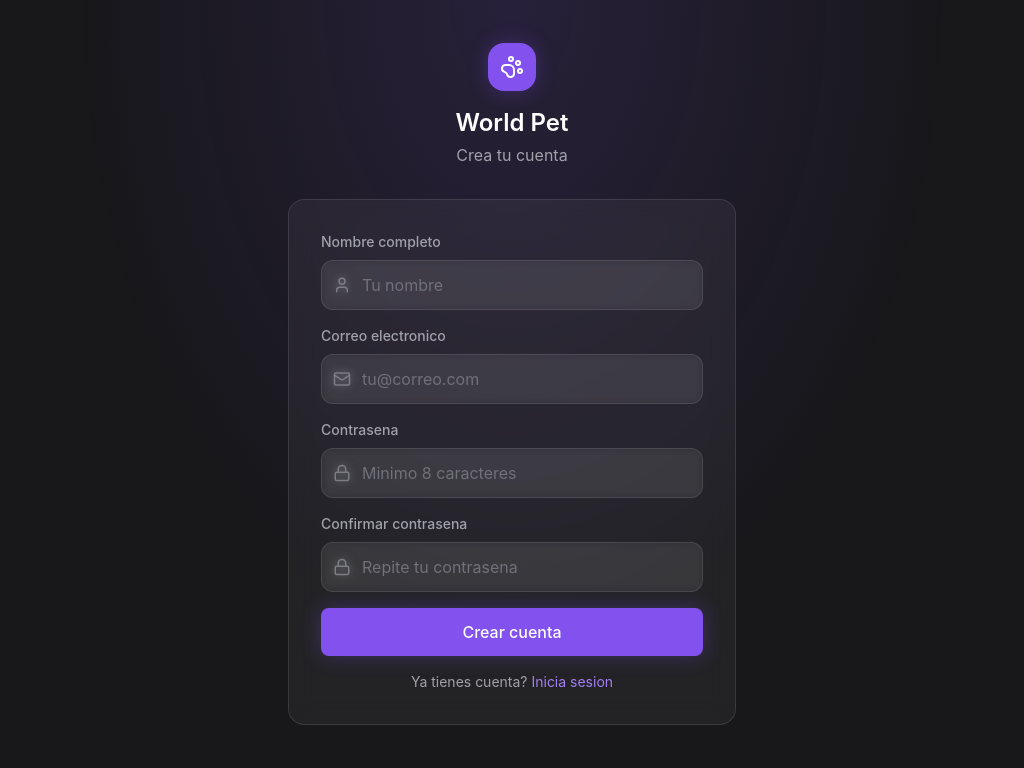
Test: Register › shows validation error for invalid email
Type "notanemail" into the field with placeholder "tu@correo.com" at (512, 379), box [321,354,703,404]
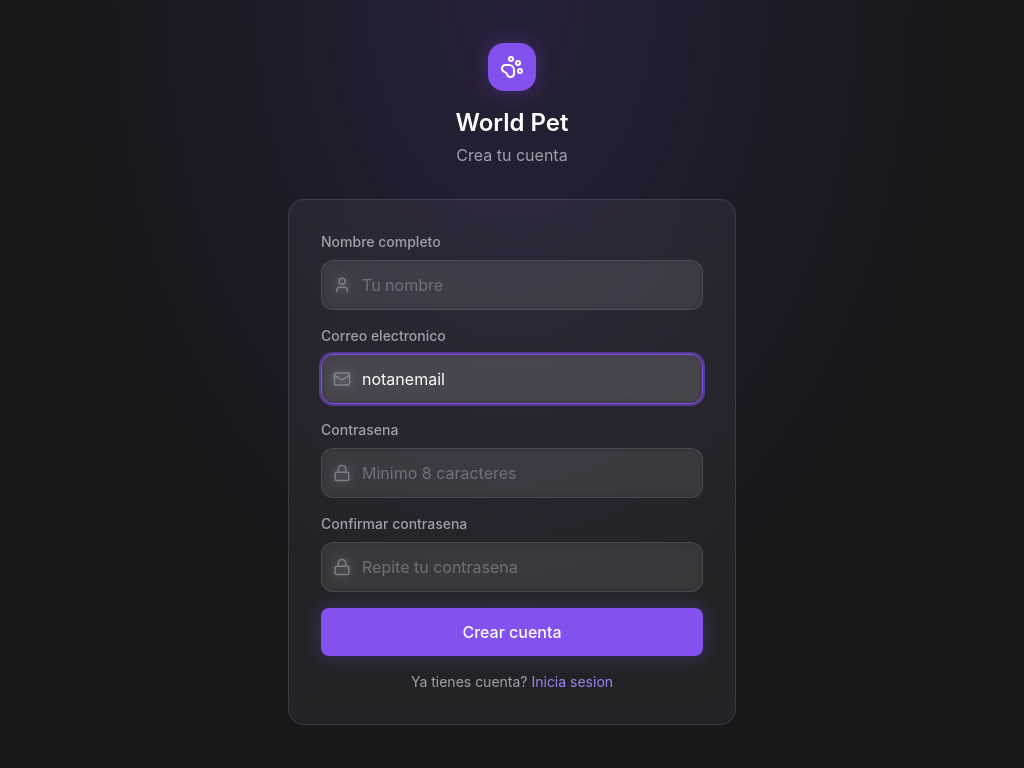
Press Tab
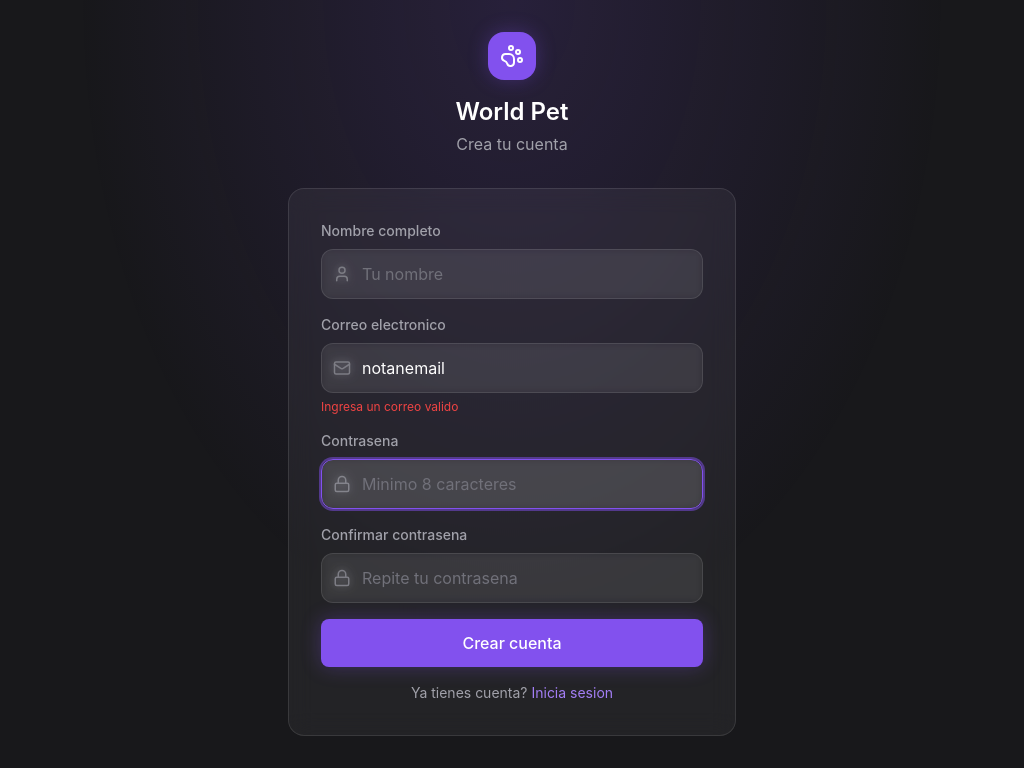
Check: the text "Ingresa un correo valido" is shown, box [321,399,458,414]
